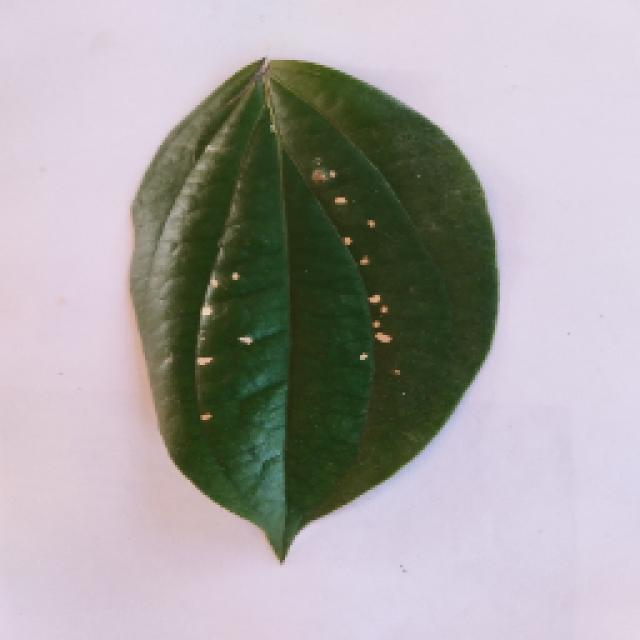pollu-disease: (112, 58, 520, 558)
